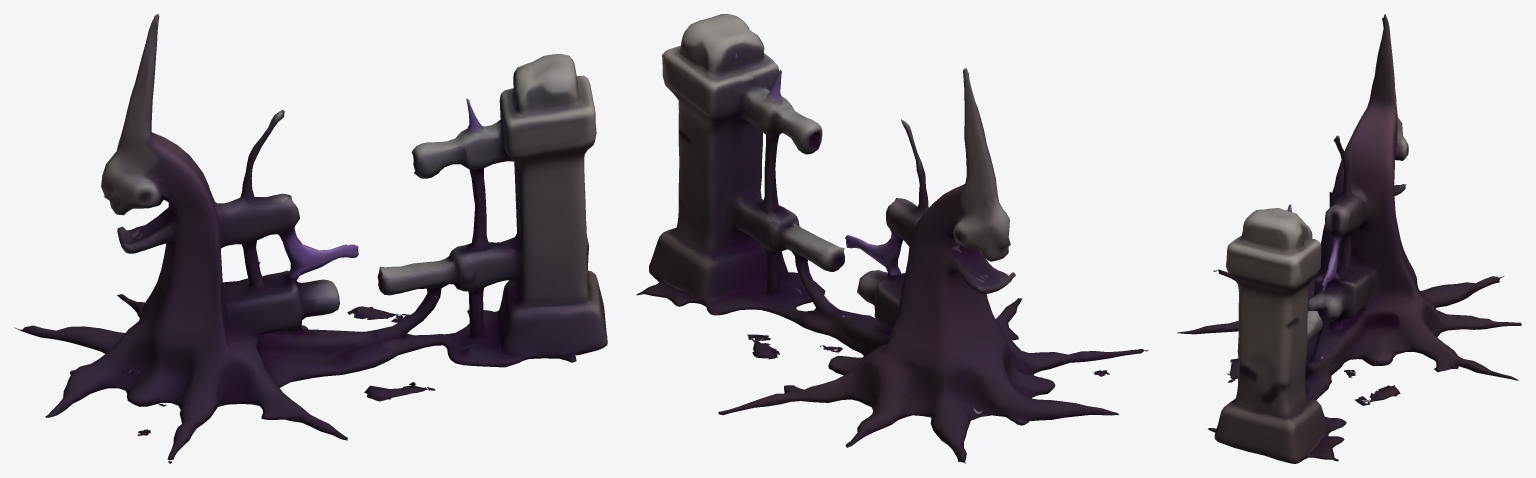
Rendered from SM_Entorno_RuinaCristalFantasia_01.fbx.
3 views of the same model, side by side, from view 1: azimuth 30°, elevation 25°; view 2: azimuth 150°, elevation 25°; view 3: azimuth 270°, elevation 25° (orthographic). The views are drawn at different scales.
Parts seen in each view (by area): view 1: SM_Entorno_RuinaCristalFantasia_01; view 2: SM_Entorno_RuinaCristalFantasia_01; view 3: SM_Entorno_RuinaCristalFantasia_01.
Boxes of the visible parts, bbox=[...] form: SM_Entorno_RuinaCristalFantasia_01: bbox=[14, 14, 607, 463]; SM_Entorno_RuinaCristalFantasia_01: bbox=[636, 14, 1148, 463]; SM_Entorno_RuinaCristalFantasia_01: bbox=[1177, 14, 1521, 463].
Size of the model in its own units: 0.9632 by 0.6193 by 0.6562.
Materials: 1 (1 with a texture image).
